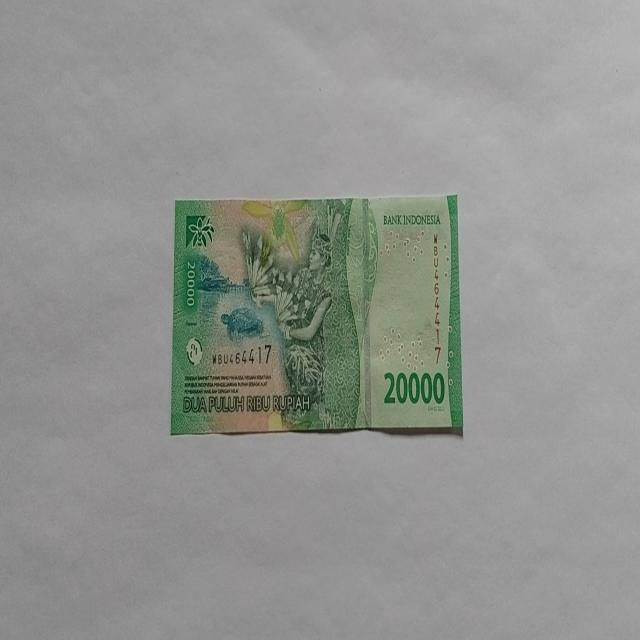dua puluh ribu rupiah: (170, 192, 463, 436)
